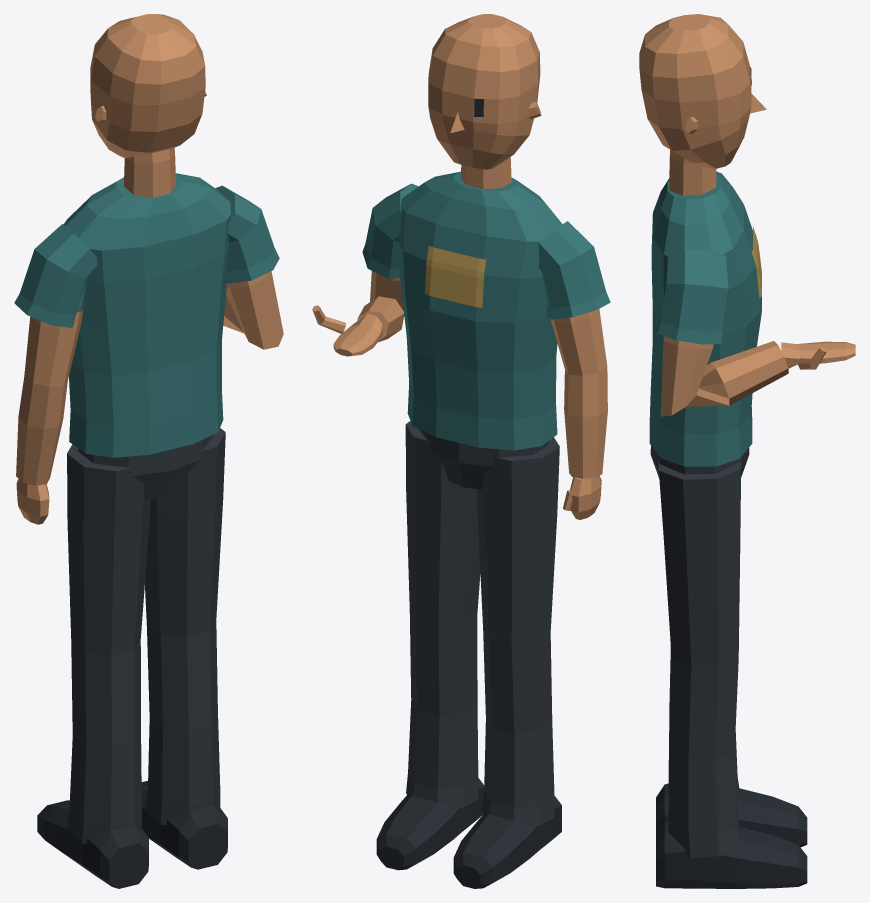
Rendered from lwf_attendee_male_food_hold_v2.glb.
3 views of the same model, side by side, from view 1: azimuth 30°, elevation 25°; view 2: azimuth 150°, elevation 25°; view 3: azimuth 270°, elevation 25° (orthographic). The views are drawn at different scales.
Parts seen in each view (by area): view 1: Attendee_male_food_hold_v6; view 2: Attendee_male_food_hold_v6; view 3: Attendee_male_food_hold_v6.
Part boxes in pixels (x1=…): Attendee_male_food_hold_v6: x1=14, y1=14, x2=283, y2=888; Attendee_male_food_hold_v6: x1=312, y1=14, x2=610, y2=888; Attendee_male_food_hold_v6: x1=639, y1=14, x2=855, y2=888.
Bounding box in the file's own units: 0.5337 × 1.73 × 0.4017.
1 material, 1 textured.
